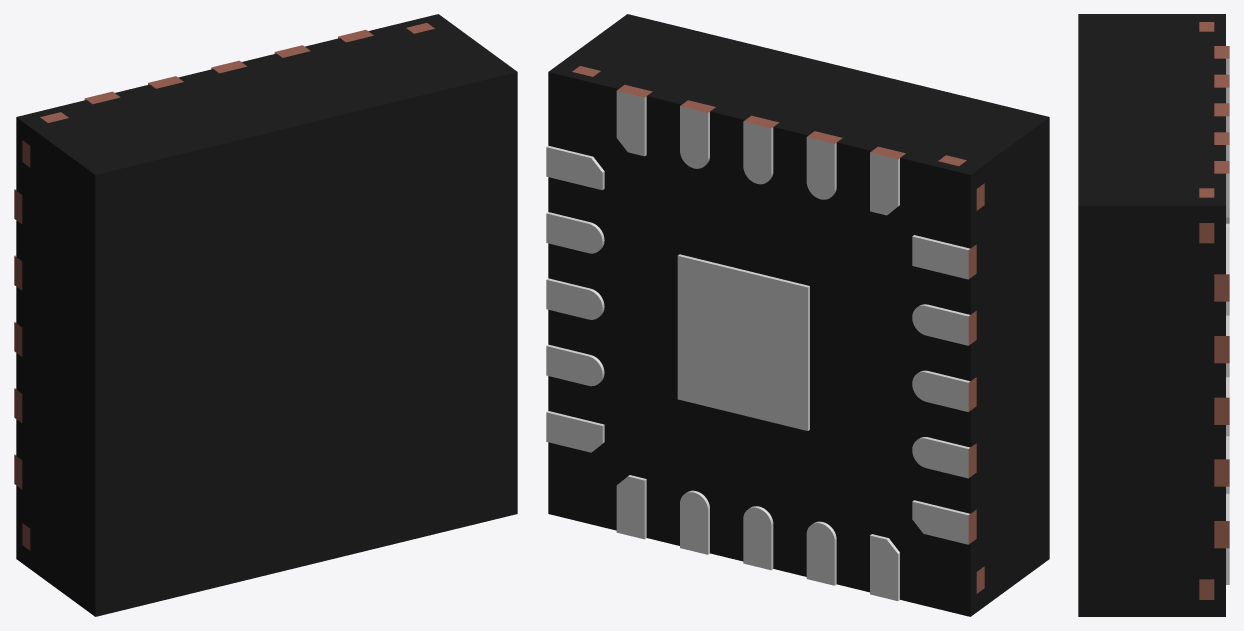
The model's file is TPS568230RJER.glb.
3 renders of one model, left to right at view 1: azimuth 30°, elevation 25°; view 2: azimuth 150°, elevation 25°; view 3: azimuth 270°, elevation 25°, orthographic. The views are drawn at different scales.
Visible parts, largest first — view 1: BODY; view 2: BODY, SOLID (×21); view 3: BODY, SOLID (×13).
Part boxes in pixels (x1,y1,x2,y2): BODY: (16, 14, 517, 616); BODY: (548, 14, 1049, 616); SOLID (×21): (546, 85, 976, 600); BODY: (1078, 14, 1225, 616); SOLID (×13): (1199, 46, 1229, 599).
Bounding box in the file's own units: 0.003 × 0.003 × 0.001.
